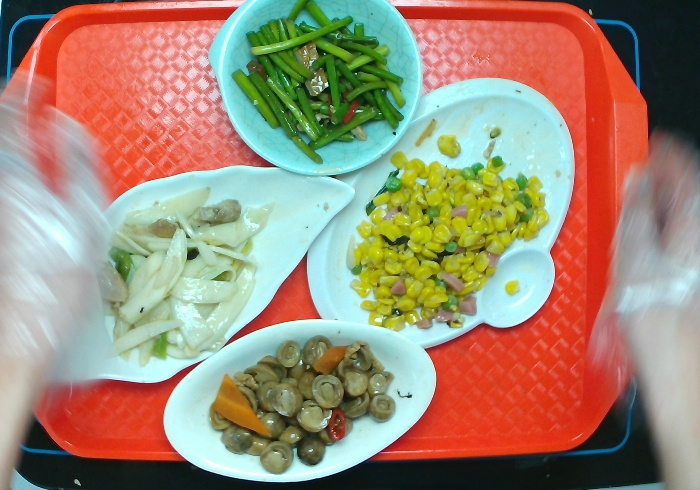RJxy-Bai_Se_Tuo_Yuan: (153, 315, 442, 484)
RJxy-Shu_Ye_Pan: (49, 156, 356, 392)
RJxy-Xiao_Jiao_Yuan_Wan: (208, 1, 426, 181)
RJxy-Zhan_Liao_Pan: (297, 74, 581, 355)
